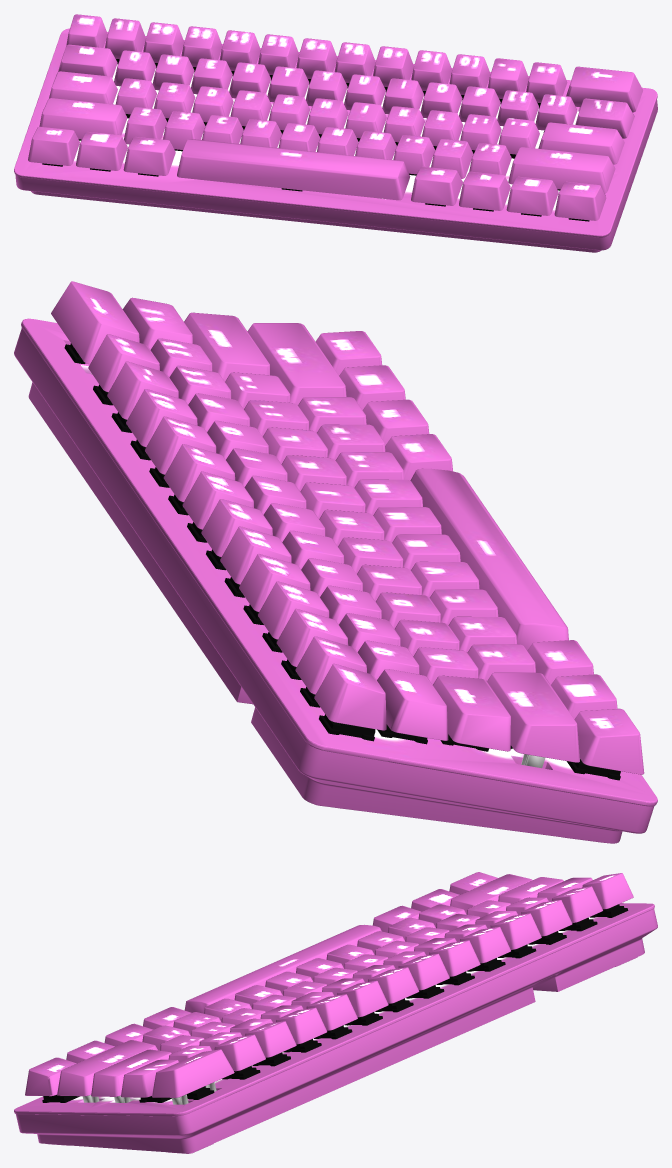
File: Huntsman_Keyboard_Pink.glb
The picture shows the model from 3 angles, top to bottom: view 1: azimuth 30°, elevation 25°; view 2: azimuth 150°, elevation 25°; view 3: azimuth 270°, elevation 25°; orthographic projection. The views are drawn at different scales.
Visible parts, largest first — view 1: Huntsman_Keyboard_Pink_LOD0; view 2: Huntsman_Keyboard_Pink_LOD0; view 3: Huntsman_Keyboard_Pink_LOD0.
Boxes of the visible parts, left/top/right/bottom form: Huntsman_Keyboard_Pink_LOD0: left=14, top=14, right=657, bottom=252; Huntsman_Keyboard_Pink_LOD0: left=14, top=281, right=657, bottom=843; Huntsman_Keyboard_Pink_LOD0: left=14, top=872, right=657, bottom=1153.
Size of what is drawn, in the model's own units: 0.3977 by 0.0844 by 0.3901.
3 materials, 1 textured.
